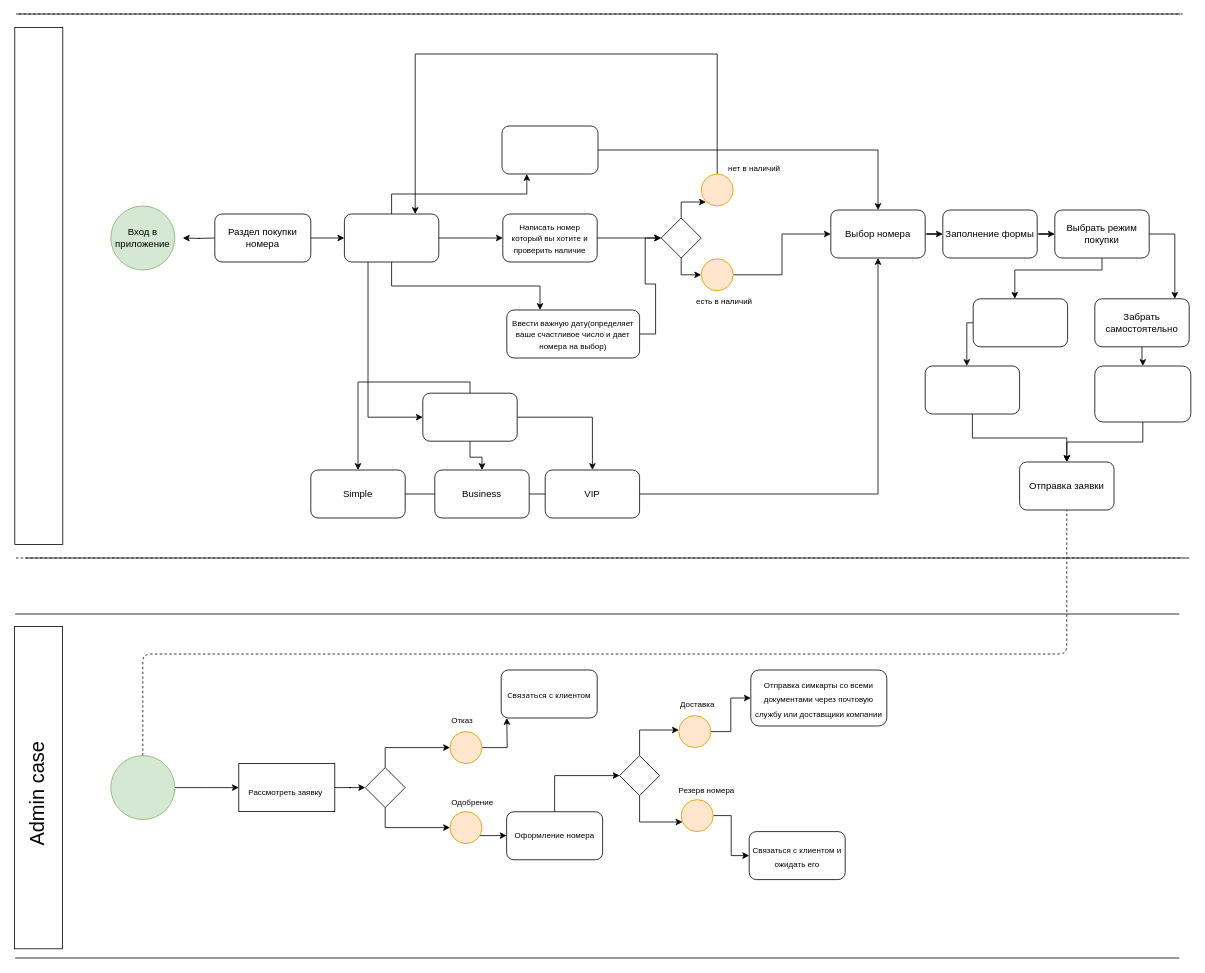
Image size: 1205x973. Some labels were removed from this diagram. The centre of each missing label's shape, as x and y in pixels:
"User case" belongs at point (38, 285).
"Выбор по категориям" belongs at point (469, 416).
"Выбрать ближайший филиал к вашему местоположению на карте" belongs at point (1142, 393).
"Доставка на дом" belongs at point (1020, 322).
"Настройка фильтров" belongs at point (391, 237).
"Получение уведомления" belongs at point (142, 787).
"Указать адрес, контактный номер и оплата сервиса" belongs at point (972, 389).
"Указать диапазон цен" belongs at point (549, 149).
